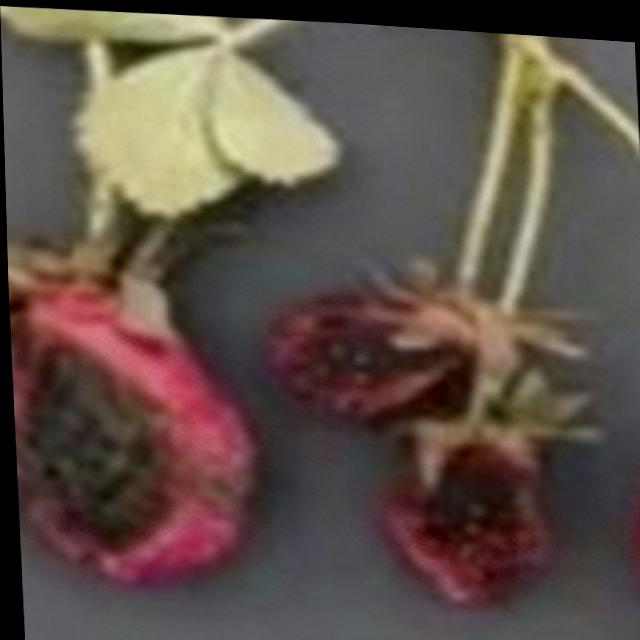Anthracnose Fruit Rot: (8, 319, 260, 562), (372, 423, 566, 605), (256, 286, 477, 424)
